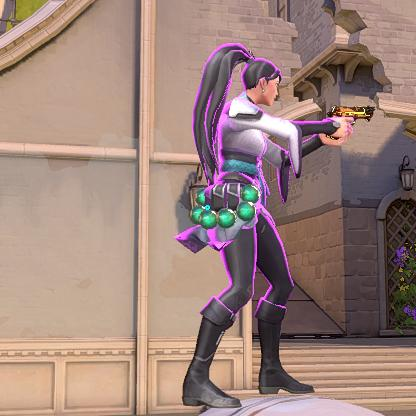enemyBody: (227, 120, 264, 206)
enemyHead: (245, 66, 276, 101)
